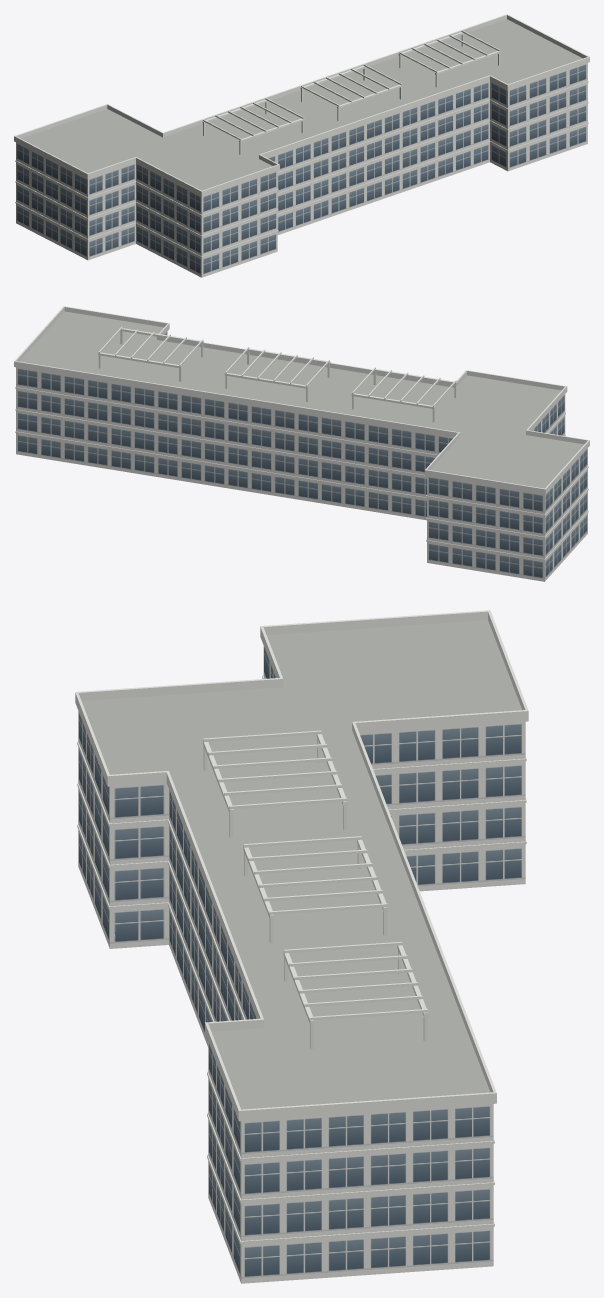
Rendered from beichenlou.glb.
3 renders of one model, top to bottom at view 1: azimuth 30°, elevation 25°; view 2: azimuth 150°, elevation 25°; view 3: azimuth 270°, elevation 25°, orthographic. The views are drawn at different scales.
Visible parts, largest first — view 1: 北辰楼; view 2: 北辰楼; view 3: 北辰楼.
Boxes of the visible parts, x1,y1,x2,y2 form: 北辰楼: (14, 14, 589, 277); 北辰楼: (14, 306, 589, 581); 北辰楼: (75, 610, 528, 1283).
Size of the model in its own units: 103 by 18.9 by 39.42.
Materials: 3 (1 with a texture image).
